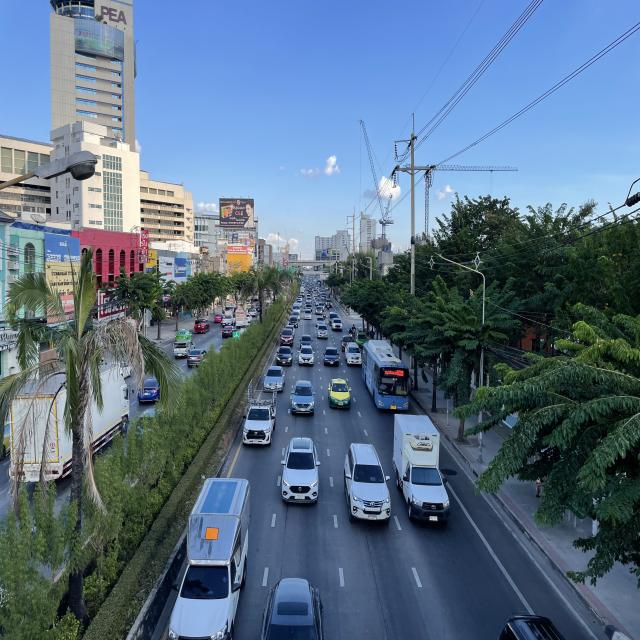bus: (361, 339, 413, 412)
car: (342, 440, 392, 528), (260, 576, 324, 640), (279, 437, 322, 508), (291, 379, 315, 417), (327, 376, 352, 410), (263, 365, 286, 393)
truck: (164, 476, 251, 640), (393, 412, 452, 527), (242, 378, 280, 450), (344, 342, 362, 366)
